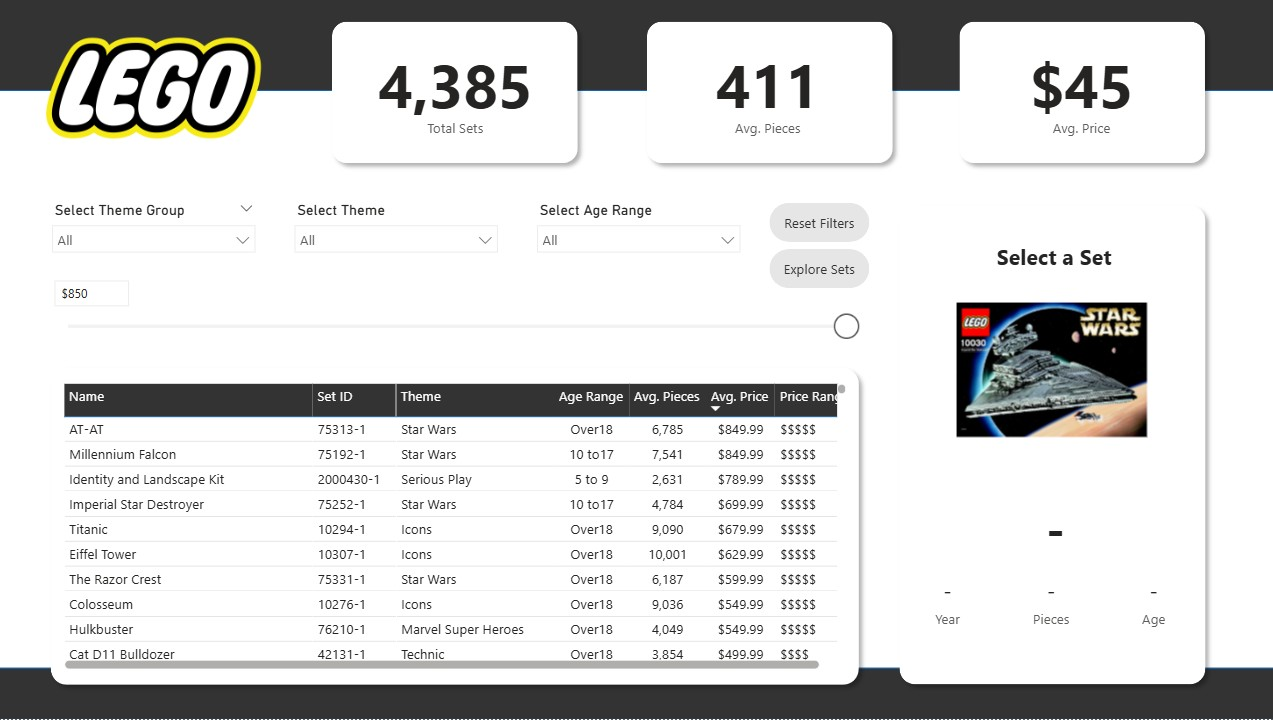

What the dashboard file says about the page in this screenshot:
{"tool":"powerbi","page":{"name":"LEGO Set Finder","canvas":[1280,720],"ordinal":0},"visuals":[{"type":"shape","box":[0,0,1280.3,91.9],"z":0},{"type":"shape","box":[952.3,13.7,263.5,159.2],"z":1000},{"type":"image","box":[43.9,20.6,223.7,142.7],"z":2000},{"type":"shape","box":[0,668.3,1280.3,52.1],"z":3000},{"type":"shape","box":[325.2,13.7,263.5,159.2],"z":4000},{"type":"shape","box":[639.5,13.7,263.5,159.2],"z":5000},{"type":"card","fields":{"Values":["Measure Table.Avg. Pieces"]},"box":[671.7,37,197.6,108.4],"z":6000},{"type":"card","fields":{"Values":["Measure Table.Total Sets"]},"box":[358.1,37,197.6,108.4],"z":7000},{"type":"shape","box":[43.9,359.5,826.1,334.8],"z":8000},{"type":"shape","box":[891.9,197.6,323.8,496.7],"z":9000},{"type":"card","fields":{"Values":["Measure Table.Avg. Price"]},"box":[985.3,37,197.6,108.4],"z":10000},{"type":"slicer","fields":{"Values":["lego_sets.themeGroup"]},"box":[43.9,197.6,223.7,90.6],"z":11000},{"type":"slicer","fields":{"Values":["lego_sets.Age Range"]},"box":[528.3,197.6,223.7,90.6],"z":12000},{"type":"slicer","fields":{"Values":["lego_sets.theme"]},"box":[286.1,197.6,223.7,90.6],"z":13000},{"type":"tableEx","fields":{"Values":["lego_sets.name","lego_sets.set_id","lego_sets.theme","lego_sets.Age Range","Measure Table.Avg. Pieces","Measure Table.Avg. Price","lego_sets.Price Range"]},"box":[60.4,380.1,793.1,295],"z":14000},{"type":"card","fields":{"Values":["Measure Table.Selected Set"]},"box":[907,219.6,297.8,79.6],"z":15000},{"type":"card","fields":{"Values":["Measure Table.Selected Price"]},"box":[908.4,487.1,297.8,79.6],"z":16000},{"type":"card","fields":{"Values":["Measure Table.Selected Year"]},"box":[904.3,566.7,91.9,71.4],"z":17000},{"type":"card","fields":{"Values":["Measure Table.Selected Pieces"]},"box":[1007.2,566.7,91.9,71.4],"z":18000},{"type":"card","fields":{"Values":["Measure Table.Selected Age"]},"box":[1110.1,566.7,91.9,71.4],"z":19000},{"type":"ImgViewerVisual1455487926945","fields":{"Values":["lego_sets.imageURL"]},"box":[953.7,299.1,200.3,200.3],"z":20000},{"type":"slicer","fields":{"Values":["Max Price.Max Price"]},"box":[43.9,271.7,826.1,78.2],"z":21000},{"type":"actionButton","box":[771.6,204.2,100.3,39.1],"z":22000},{"type":"actionButton","box":[771.6,249.5,100.3,39.1],"z":23000}]}

Visuals, with their boxes in screenshot pixels (x1, y1, x2, y2), scaled from the page's 1280x720 canvas onto the 1273x720 screenshot:
shape: bbox=(0, 0, 1272, 92)
shape: bbox=(947, 14, 1209, 173)
image: bbox=(44, 21, 266, 163)
shape: bbox=(0, 668, 1272, 719)
shape: bbox=(323, 14, 585, 173)
shape: bbox=(636, 14, 898, 173)
card - Measure Table.Avg. Pieces: bbox=(668, 37, 865, 145)
card - Measure Table.Total Sets: bbox=(356, 37, 553, 145)
shape: bbox=(44, 360, 865, 694)
shape: bbox=(887, 198, 1209, 694)
card - Measure Table.Avg. Price: bbox=(980, 37, 1176, 145)
slicer - lego_sets.themeGroup: bbox=(44, 198, 266, 288)
slicer - lego_sets.Age Range: bbox=(525, 198, 748, 288)
slicer - lego_sets.theme: bbox=(285, 198, 507, 288)
tableEx - lego_sets.name x lego_sets.set_id: bbox=(60, 380, 849, 675)
card - Measure Table.Selected Set: bbox=(902, 220, 1198, 299)
card - Measure Table.Selected Price: bbox=(903, 487, 1200, 567)
card - Measure Table.Selected Year: bbox=(899, 567, 991, 638)
card - Measure Table.Selected Pieces: bbox=(1002, 567, 1093, 638)
card - Measure Table.Selected Age: bbox=(1104, 567, 1195, 638)
ImgViewerVisual1455487926945 - lego_sets.imageURL: bbox=(948, 299, 1148, 499)
slicer - Max Price.Max Price: bbox=(44, 272, 865, 350)
actionButton: bbox=(767, 204, 867, 243)
actionButton: bbox=(767, 250, 867, 289)
